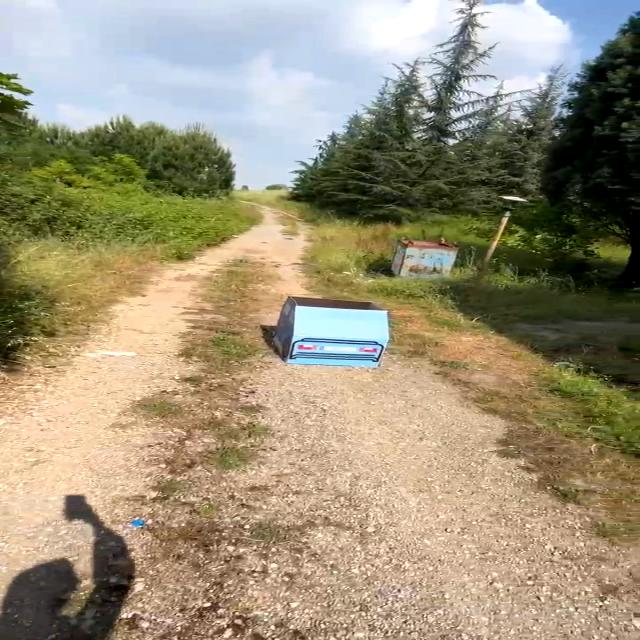blue_car: (247, 288, 410, 376)
